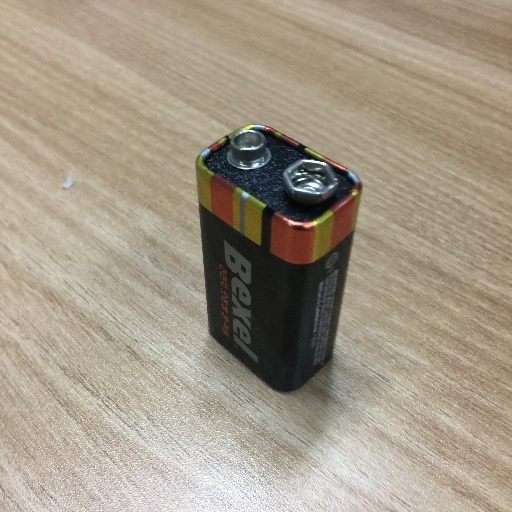Battery_3: (176, 106, 382, 408)
